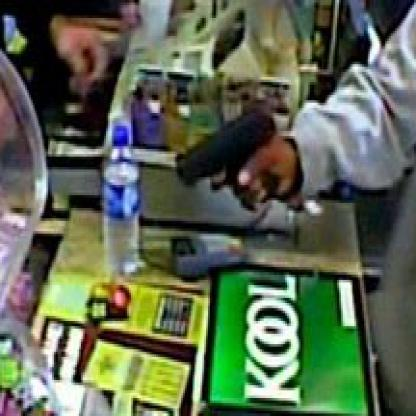gun: (162, 92, 304, 226)
